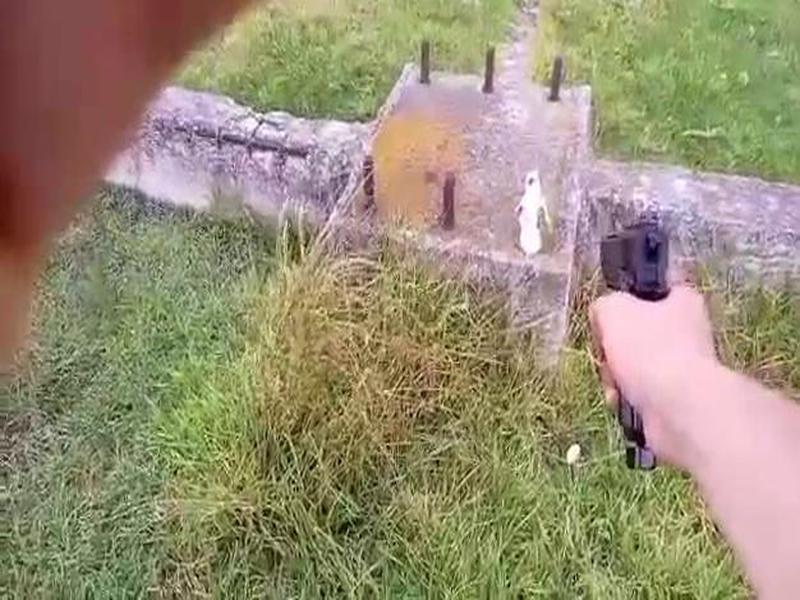Pistola: (586, 206, 697, 437)
